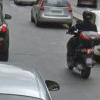Motorcycle: (54, 11, 100, 79)
